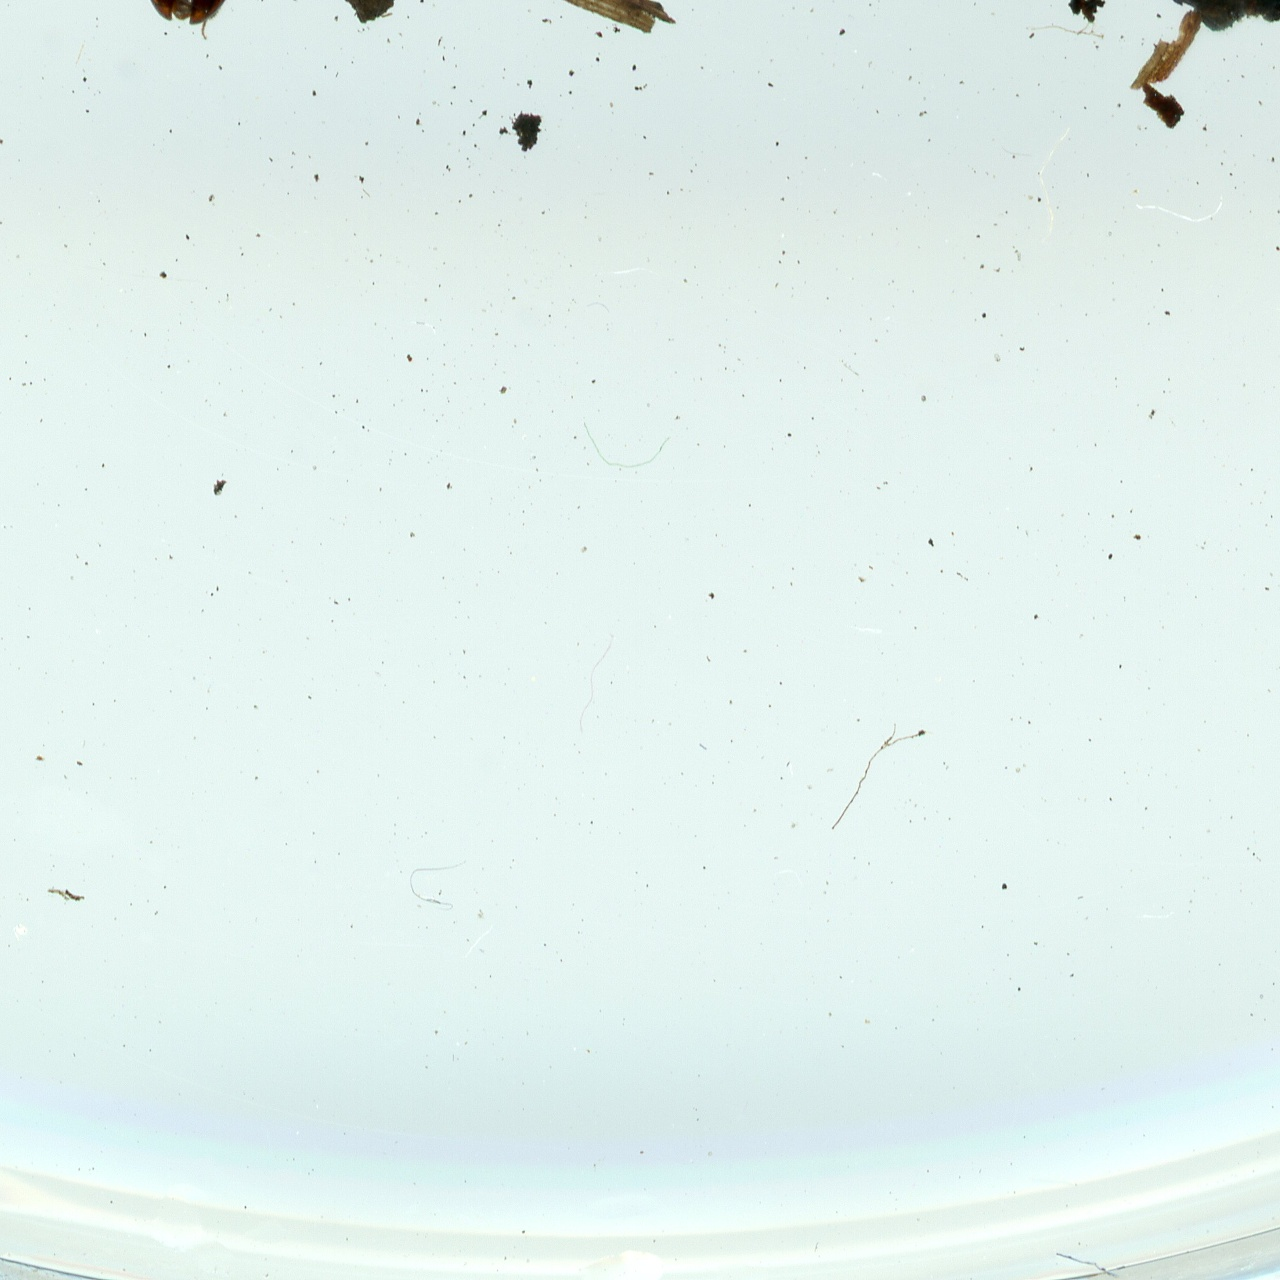arthropod: (115, 0, 274, 51)
